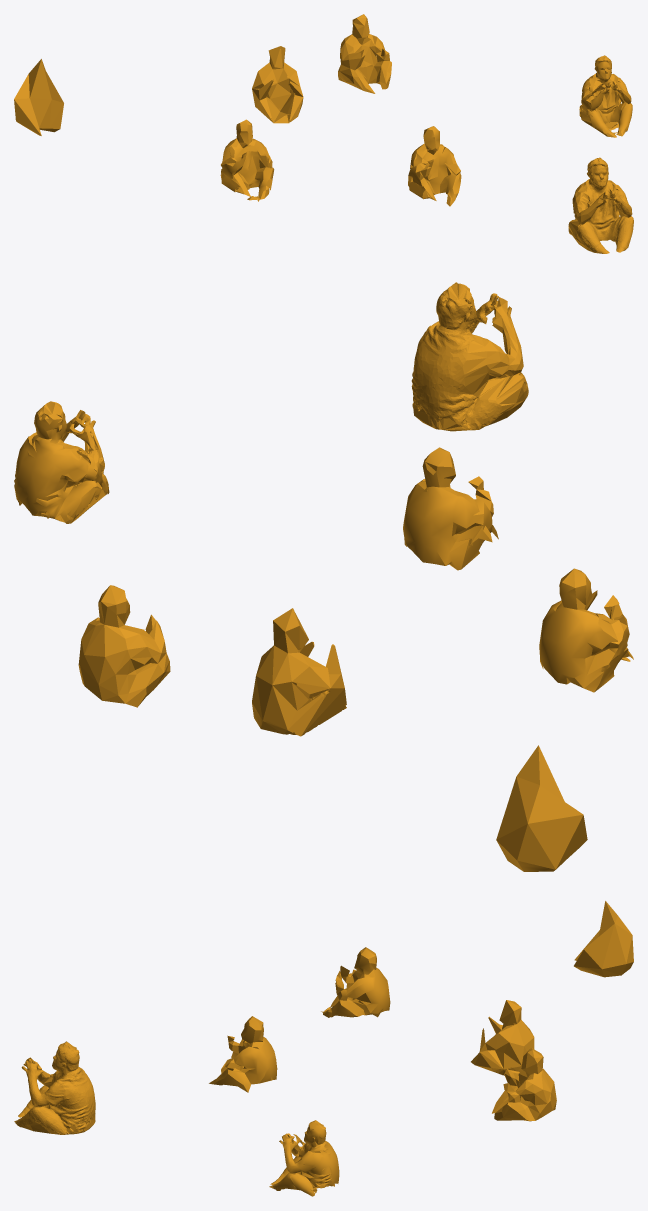
Rendered from Liam-New-remesh.fbx.
3 renders of one model, top to bottom at view 1: azimuth 30°, elevation 25°; view 2: azimuth 150°, elevation 25°; view 3: azimuth 270°, elevation 25°, orthographic. The views are drawn at different scales.
Visible parts, largest first — view 1: flashforge stl export: %120190320 12:25:20_2.001, flashforge stl export: %120190320 12:25:20_6, flashforge stl export: %120190320 12:25:20_5, flashforge stl export: %120190320 12:25:20_4, flashforge stl export: %120190320 12:25:20, flashforge stl export: %120190320 12:25:20_3, Layer 01; view 2: flashforge stl export: %120190320 12:25:20_2.001, flashforge stl export: %120190320 12:25:20_6, flashforge stl export: %120190320 12:25:20_3, flashforge stl export: %120190320 12:25:20_5, flashforge stl export: %120190320 12:25:20, flashforge stl export: %120190320 12:25:20_4, Layer 01; view 3: flashforge stl export: %120190320 12:25:20_2.001, flashforge stl export: %120190320 12:25:20_6, flashforge stl export: %120190320 12:25:20_4, flashforge stl export: %120190320 12:25:20_5, flashforge stl export: %120190320 12:25:20, flashforge stl export: %120190320 12:25:20_3, Layer 01.
Part boxes in pixels (x1,y1,x2,y2): flashforge stl export: %120190320 12:25:20_2.001: [568, 157, 633, 253]; flashforge stl export: %120190320 12:25:20_6: [579, 55, 632, 137]; flashforge stl export: %120190320 12:25:20_5: [220, 119, 274, 201]; flashforge stl export: %120190320 12:25:20_4: [338, 14, 391, 93]; flashforge stl export: %120190320 12:25:20: [408, 126, 461, 206]; flashforge stl export: %120190320 12:25:20_3: [252, 46, 303, 123]; Layer 01: [14, 59, 63, 135]; flashforge stl export: %120190320 12:25:20_2.001: [411, 282, 528, 431]; flashforge stl export: %120190320 12:25:20_6: [14, 401, 109, 523]; flashforge stl export: %120190320 12:25:20_3: [252, 608, 346, 736]; flashforge stl export: %120190320 12:25:20_5: [539, 568, 633, 692]; flashforge stl export: %120190320 12:25:20: [403, 447, 498, 570]; flashforge stl export: %120190320 12:25:20_4: [78, 585, 170, 707]; Layer 01: [496, 745, 587, 871]; flashforge stl export: %120190320 12:25:20_2.001: [14, 1041, 95, 1134]; flashforge stl export: %120190320 12:25:20_6: [269, 1120, 339, 1196]; flashforge stl export: %120190320 12:25:20_4: [492, 1048, 556, 1121]; flashforge stl export: %120190320 12:25:20_5: [321, 947, 390, 1017]; flashforge stl export: %120190320 12:25:20: [209, 1016, 277, 1092]; flashforge stl export: %120190320 12:25:20_3: [471, 1000, 534, 1075]; Layer 01: [574, 901, 633, 977].
Bounding box in the file's own units: 617 × 98.83 × 663.
